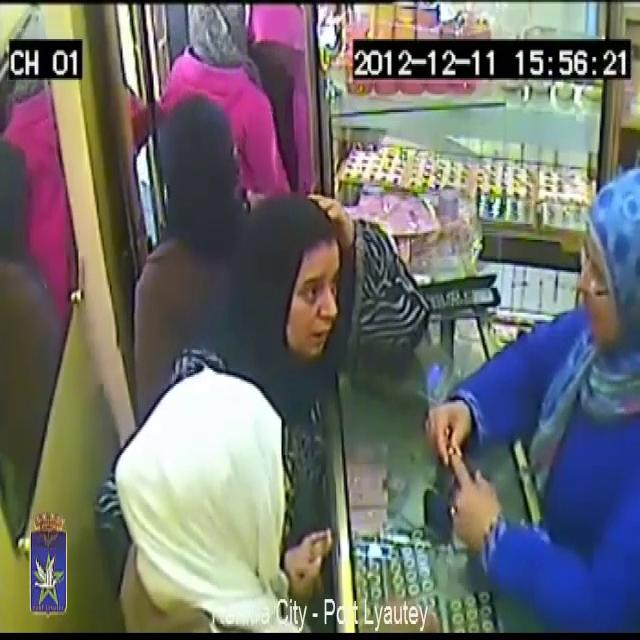Product: (438, 431, 464, 487)
normal: (105, 364, 323, 640), (234, 210, 338, 388), (248, 1, 328, 193), (154, 100, 245, 265), (172, 3, 243, 108)
shoplifting: (382, 144, 640, 627)
